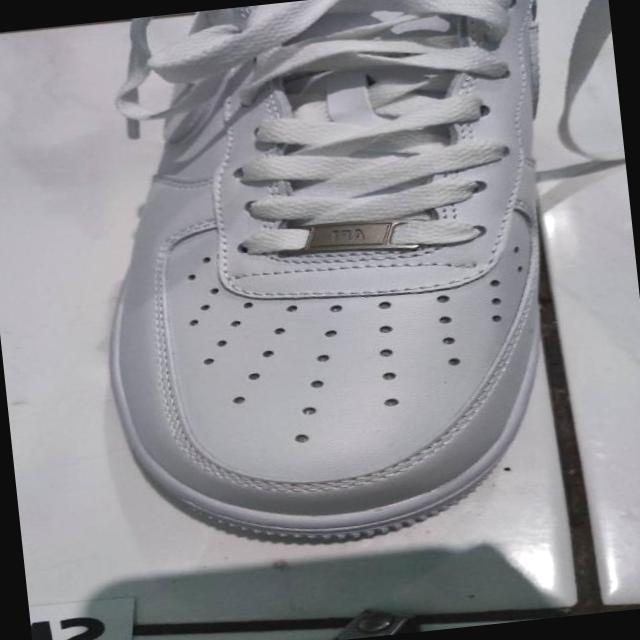nike_fake_airforce: (66, 0, 591, 564)
